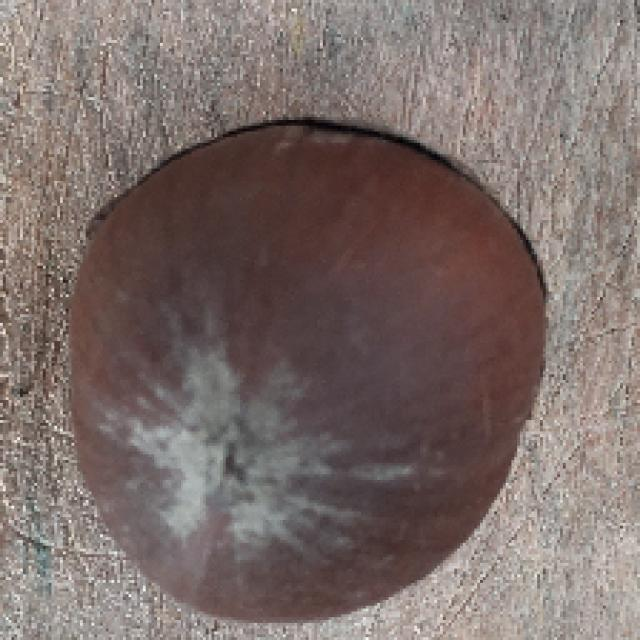DamagedHazelnut: (64, 121, 550, 627)
